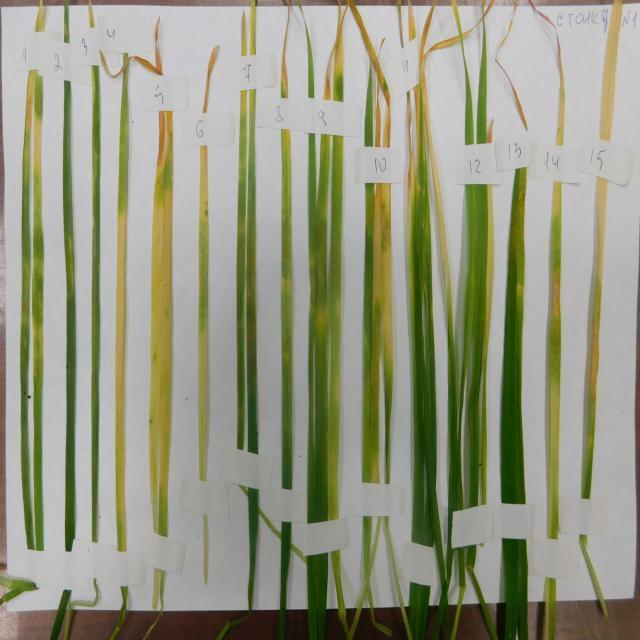Yellow Rust: (599, 6, 621, 139)
